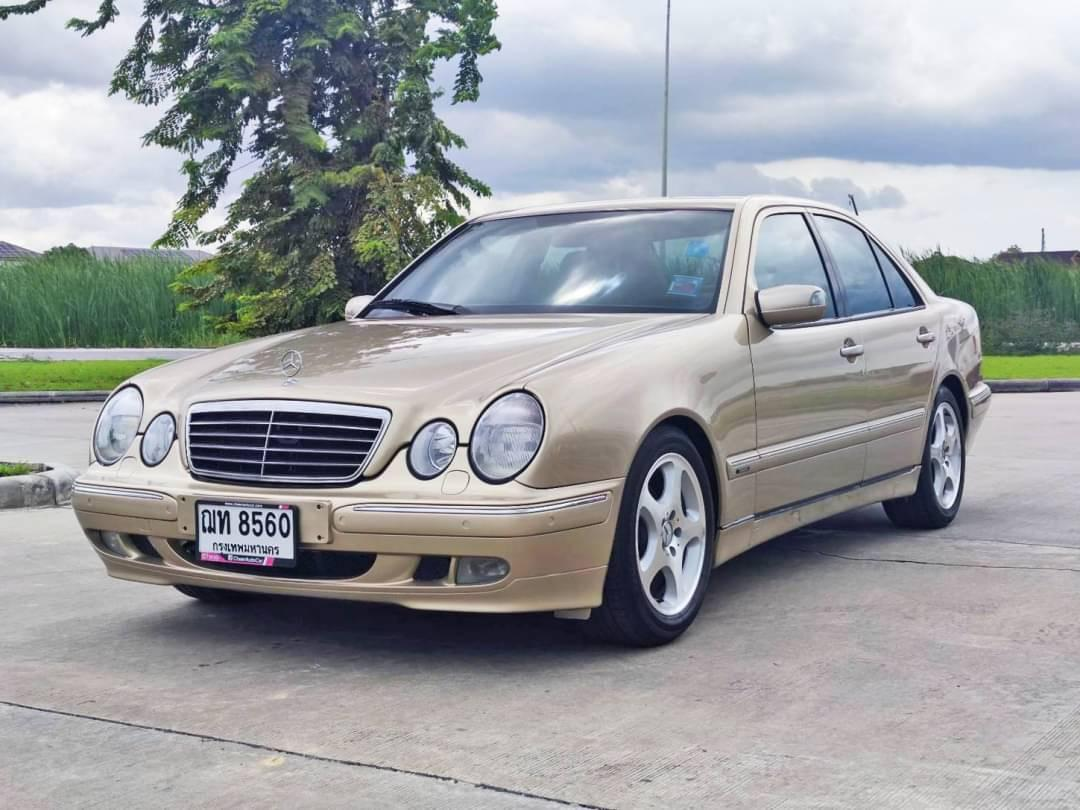license-plate: (195, 496, 300, 573)
